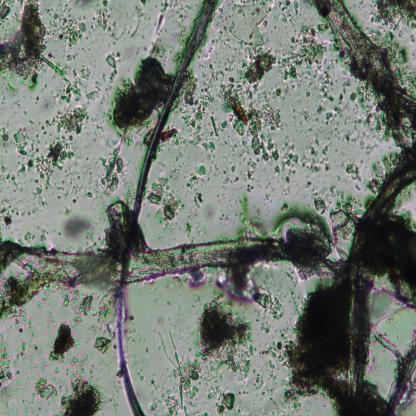Background material: (266, 272, 352, 411), (367, 209, 416, 415), (219, 51, 295, 181), (0, 1, 66, 87), (198, 298, 255, 384), (219, 246, 282, 318), (112, 61, 174, 134), (150, 325, 200, 412), (212, 0, 295, 48), (306, 188, 358, 263), (67, 284, 116, 354), (55, 64, 99, 139), (290, 27, 334, 100), (180, 70, 217, 155), (18, 137, 74, 192), (58, 366, 106, 416), (48, 4, 88, 58), (14, 304, 44, 368), (100, 126, 128, 194), (369, 1, 416, 37), (57, 209, 98, 248), (248, 350, 278, 403), (152, 172, 180, 224), (49, 323, 80, 367), (298, 138, 332, 174), (184, 167, 209, 214), (92, 0, 119, 41), (0, 126, 30, 160), (0, 332, 14, 402), (73, 162, 96, 202), (208, 386, 240, 414), (296, 110, 326, 138), (0, 194, 20, 228), (34, 376, 58, 402), (23, 189, 46, 215), (343, 159, 362, 182), (20, 233, 45, 249), (30, 92, 50, 112), (41, 118, 57, 136), (349, 95, 359, 110), (285, 198, 293, 216), (140, 0, 150, 8)
Cellulose filter fibre: (0, 227, 332, 290), (345, 128, 416, 402), (322, 0, 416, 126)
Microfibre: (117, 0, 217, 414)
